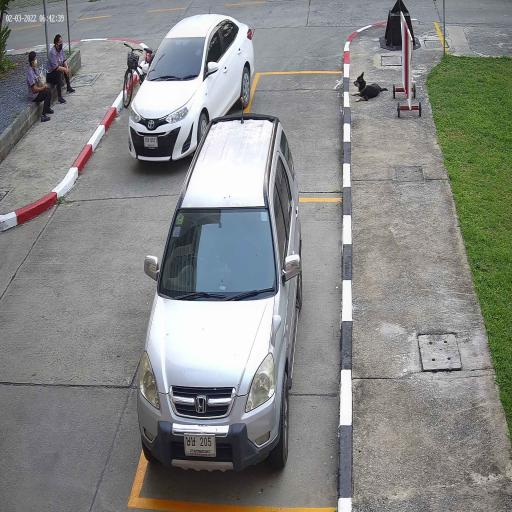car: (136, 113, 304, 479), (128, 12, 256, 164)
